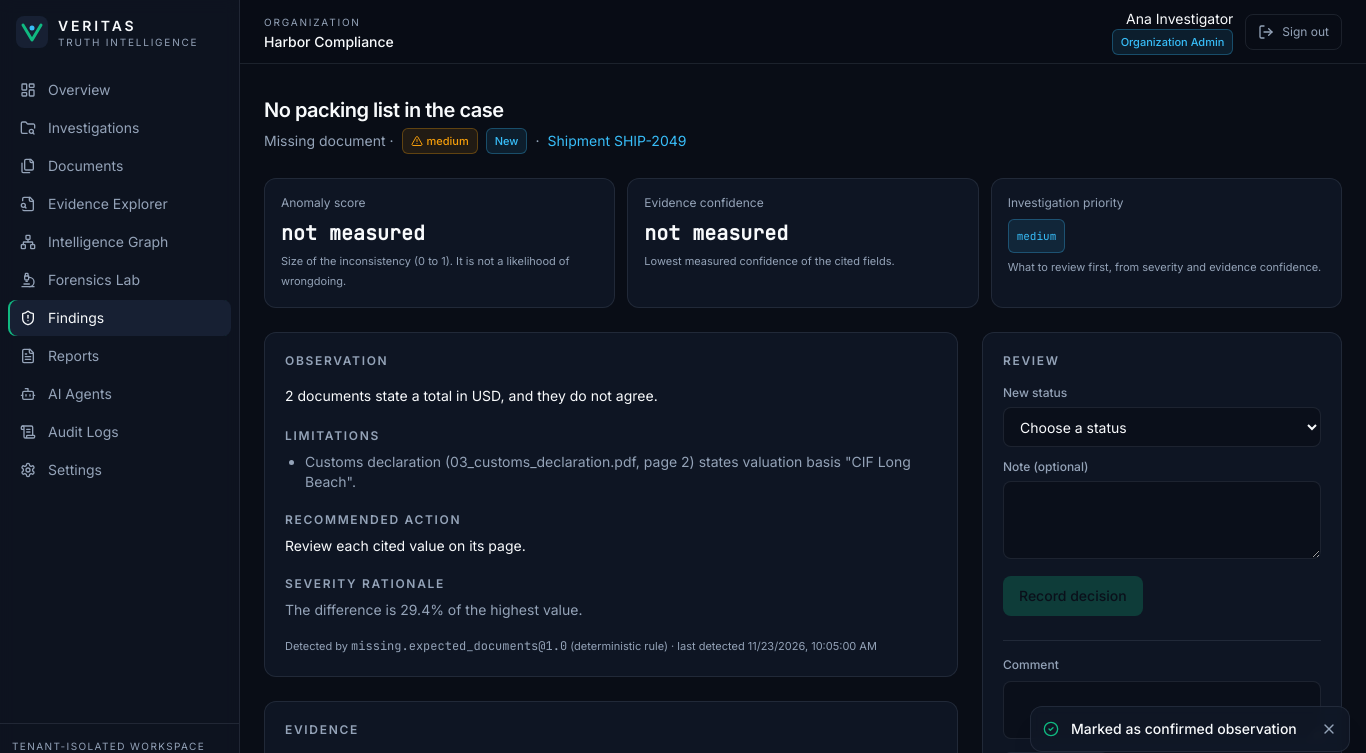
Test: a finding based on an absence can't be confirmed and the page says why
Later steps or results of the test are not shown.
Select "Confirmed observation" in the dropdown labelled "New status" at (1162, 427), box [1003,407,1321,447]
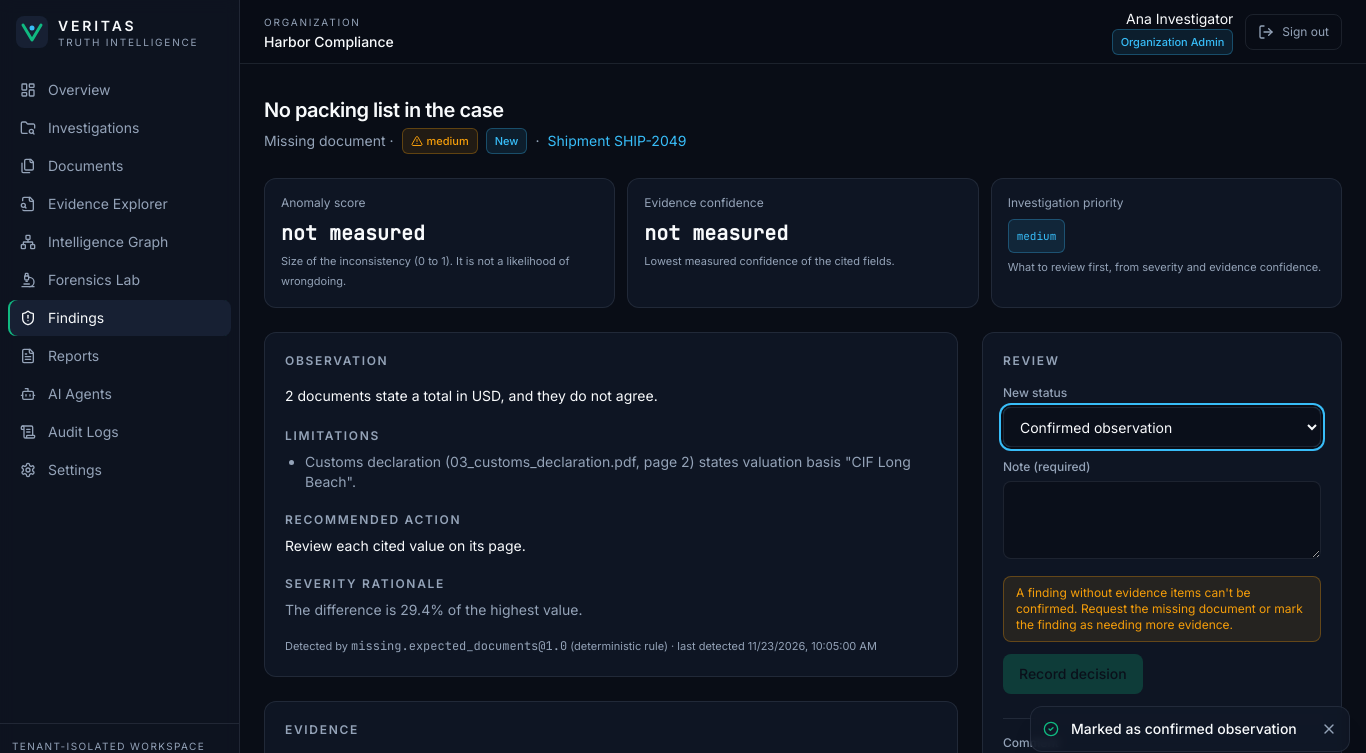
Expected: the text "can't be confirmed" is shown, [1016,585,1303,632]
